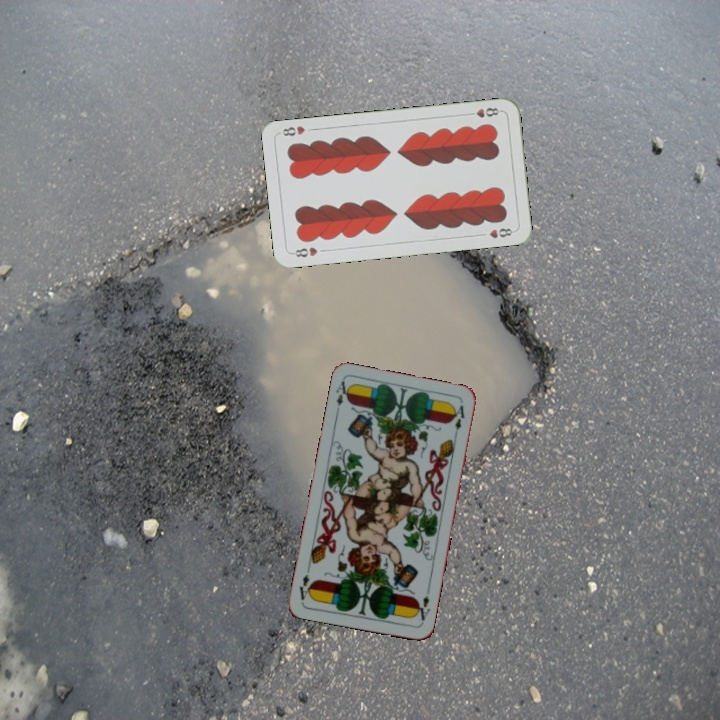EA: (332, 377, 353, 417), (411, 585, 433, 623)
H8: (463, 104, 504, 120), (288, 243, 320, 260)
